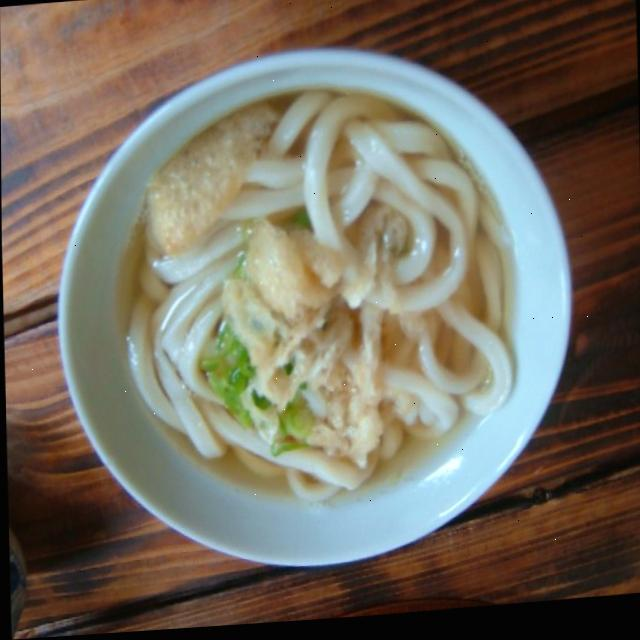面条主食: (36, 34, 588, 598)
